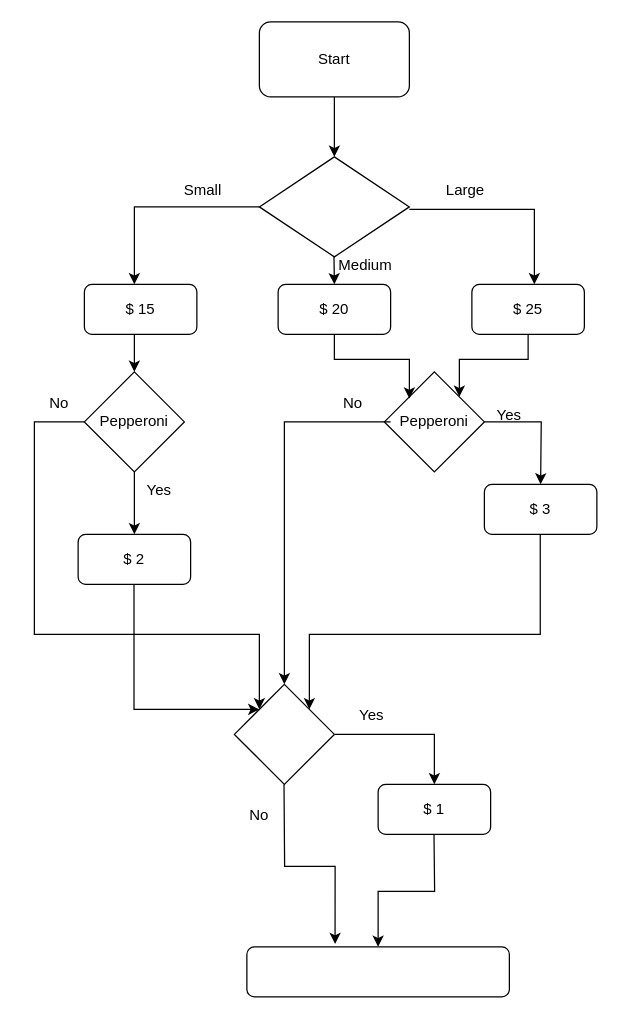
The diagram is 619 pixels wide and 1019 high, and some of its shapes have lost their labels. The centre of each missing label's shape, as x and y in pixels:
"Extra cheese" belongs at point 283,733.
"Pizza type" belongs at point 333,206.
"The total bill is $ x" belongs at point 377,971.
